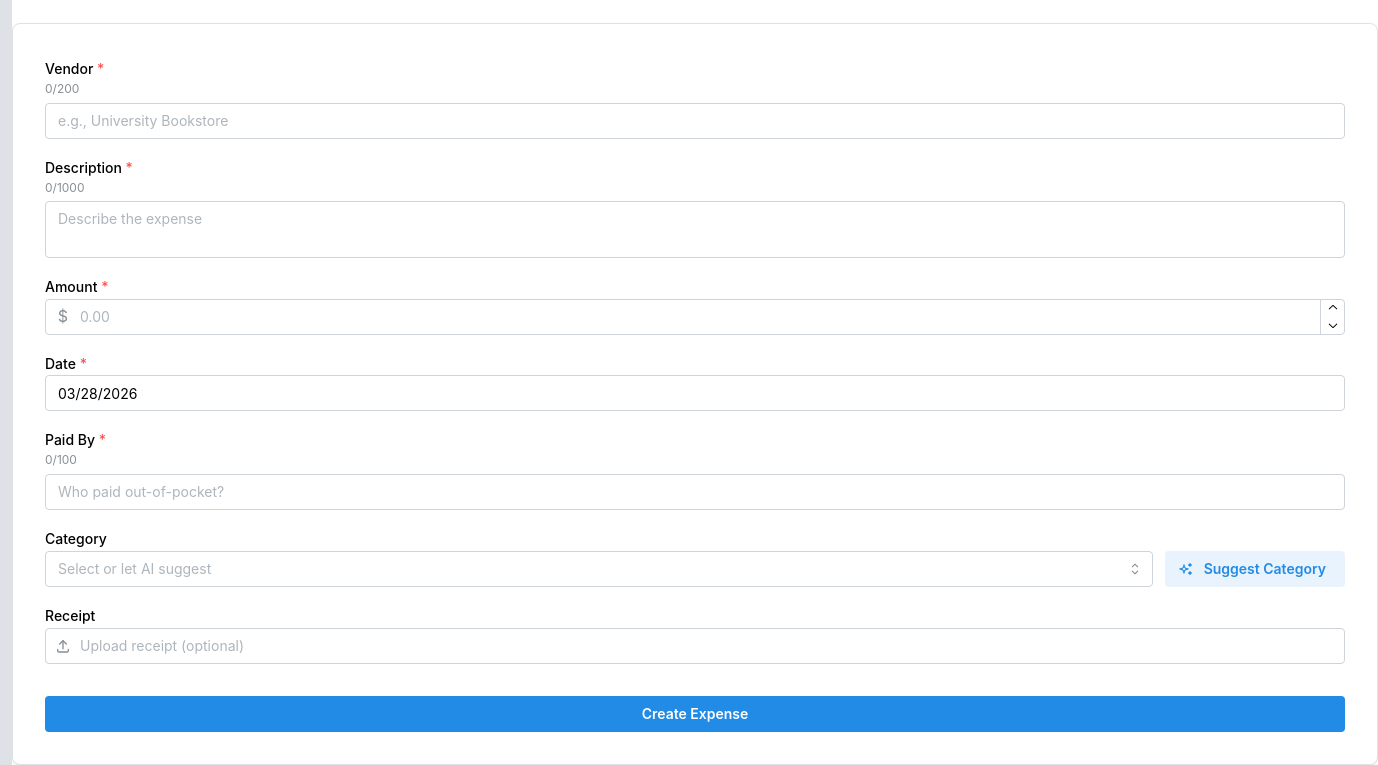
Test: ExpenseForm › Validation -- required fields › shows error when vendor is empty on submit
(page scrolled)
What coordinates should you click on to do the following:
click the button "Create Expense"
I would click on:
 (695, 714)
Its box is [45,696,1345,732].
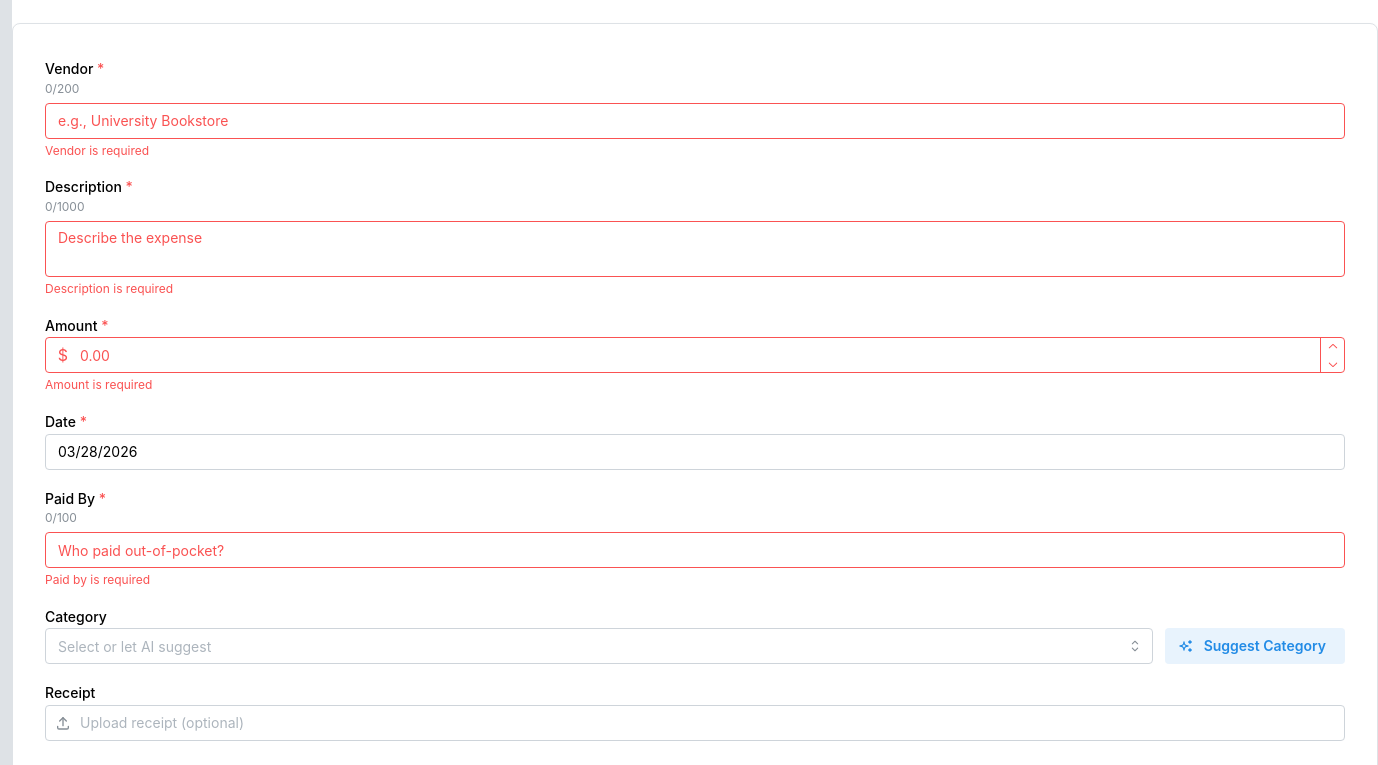
expect the text "Vendor is required" is shown: met, box [45,143,149,158]
